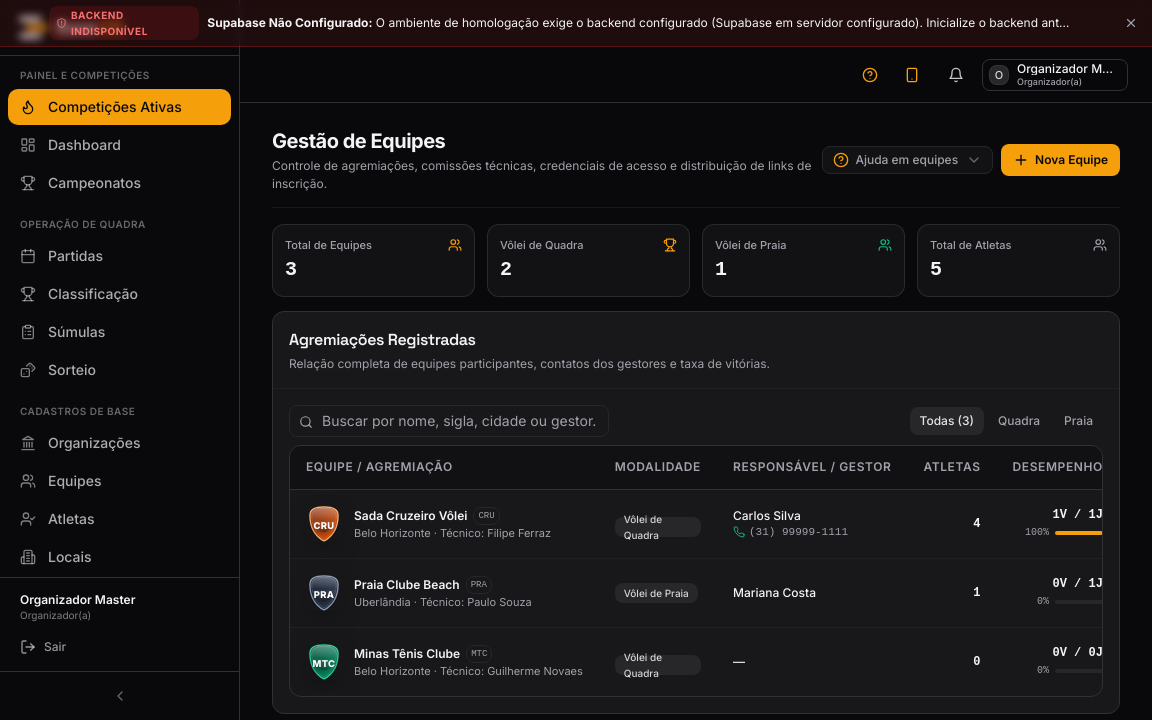
TeamsPage & Elenco de Atletas (Fase 7.5) › exibe estado vazio apropriado quando a equipe não possui atletas vinculados
This screenshot has width=1152, height=720.
Click the text "Minas Tênis Clube".
click(407, 654)  # box [354,646,460,662]
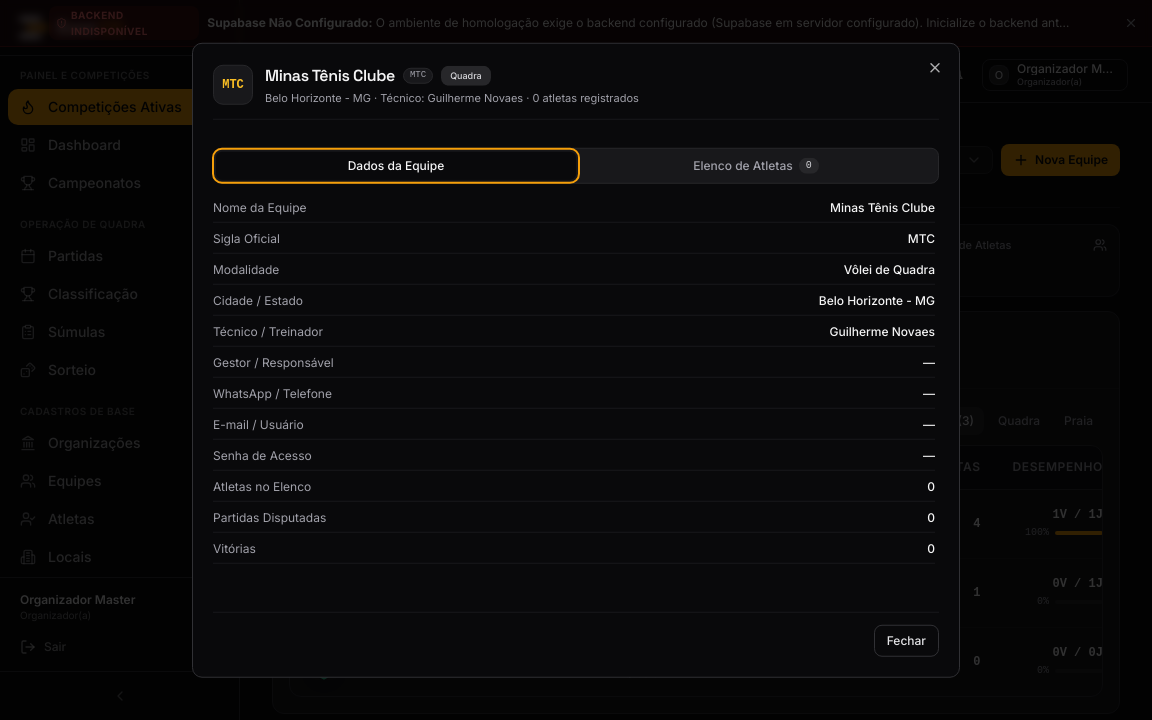
Click the tab "Elenco de Atletas 0".
click(756, 165)  # box [576,151,936,179]
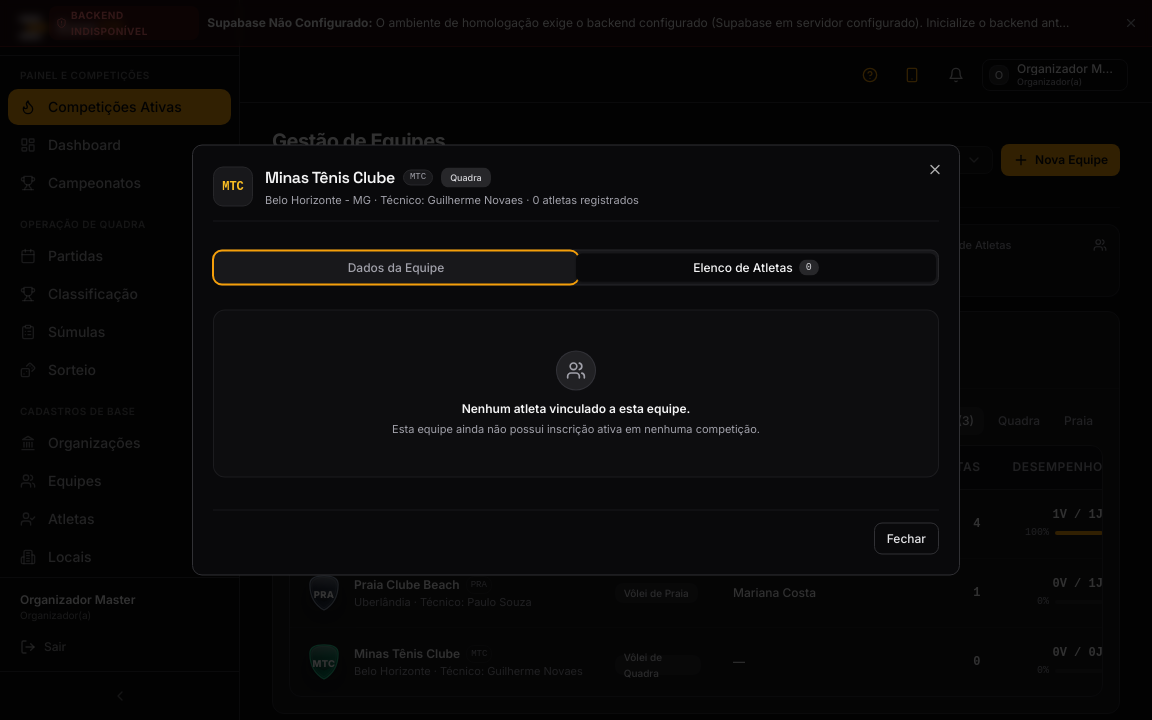
Expected: the text "Nenhum atleta vinculado a esta equipe." is shown, [462,400,690,416]
Expected: the text "Esta equipe ainda não possui inscrição ativa em nenhuma competição" is shown, [392,421,760,435]
